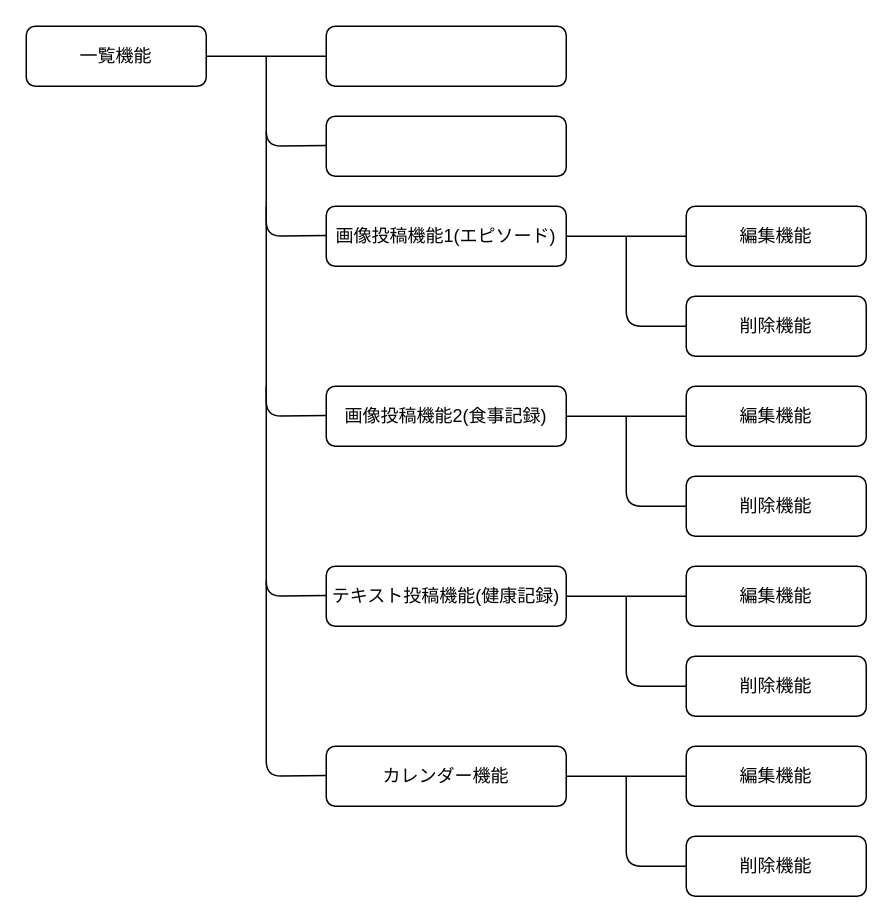
Some shapes in this 893 by 923 pixel diagram are drawn without their labels. Each missing label, with the centre of its shape:
"ユーザーログイン機能" goes at point (445, 145).
"ユーザー新規登録機能" goes at point (445, 55).
